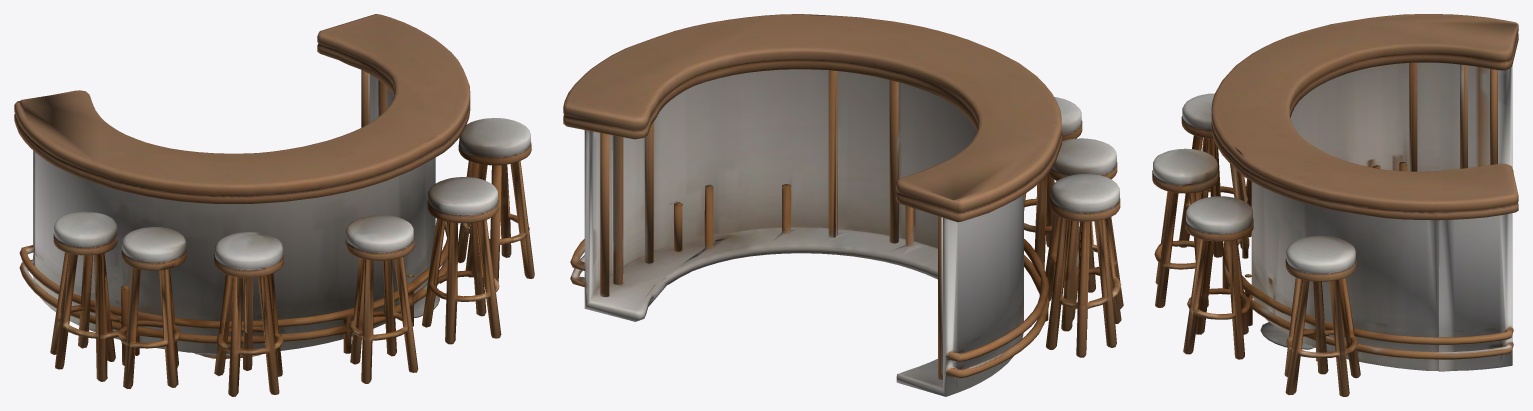
Rendered from Furniture__bar_counter_curved_caaaa975_v2.cluster.glb.
The picture shows the model from 3 angles, left to right: view 1: azimuth 30°, elevation 25°; view 2: azimuth 150°, elevation 25°; view 3: azimuth 270°, elevation 25°; orthographic projection. The views are drawn at different scales.
Visible parts, largest first — view 1: mesh_input; view 2: mesh_input; view 3: mesh_input.
Part boxes in pixels (box(x1,y1,x2,y2)): mesh_input: box(14, 14, 534, 396); mesh_input: box(563, 14, 1123, 396); mesh_input: box(1152, 14, 1518, 396).
Size of the model in its own units: 1.9 by 0.7415 by 1.34.
Materials: 1 (1 with a texture image).
